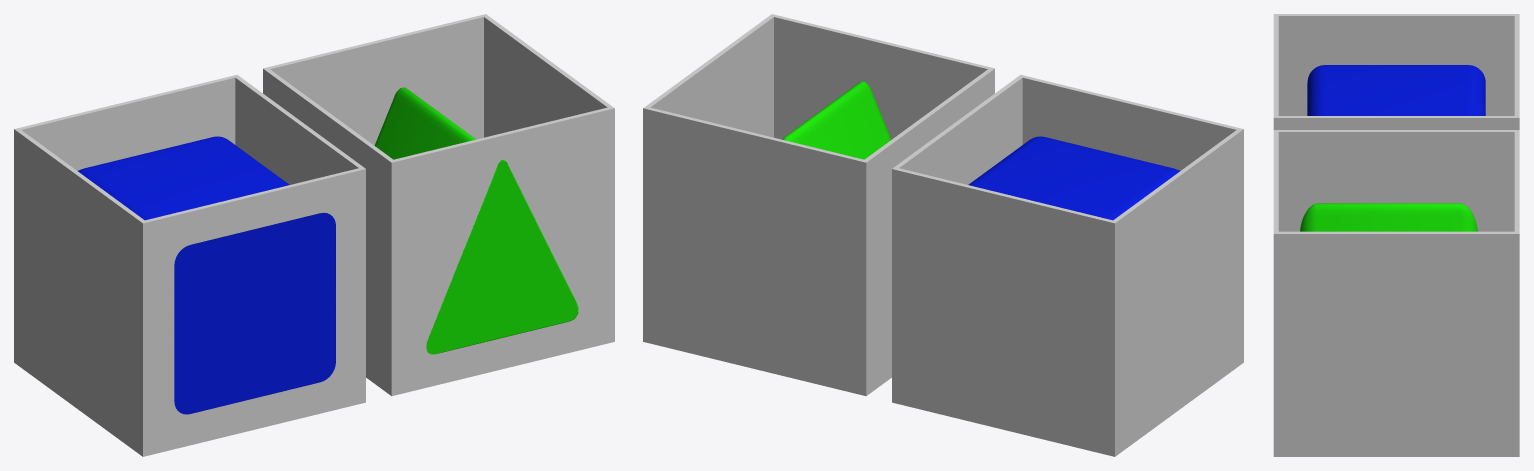
Rendered from Caixas.fbx.
The picture shows the model from 3 angles, left to right: view 1: azimuth 30°, elevation 25°; view 2: azimuth 150°, elevation 25°; view 3: azimuth 270°, elevation 25°; orthographic projection. The views are drawn at different scales.
Parts seen in each view (by area): view 1: Cube.002, Cube.004, Cube.003, Cube.005, Cube, Cube.001; view 2: Cube.002, Cube.004, Cube, Cube.001; view 3: Cube.004, Cube.002, Cube, Cube.001.
Boxes of the visible parts, x1,y1,x2,y2 form: Cube.002: (14, 74, 365, 456); Cube.004: (263, 14, 614, 396); Cube.003: (174, 212, 335, 414); Cube.005: (426, 160, 578, 354); Cube: (78, 136, 289, 220); Cube.001: (374, 87, 475, 159); Cube.002: (892, 74, 1243, 456); Cube.004: (643, 14, 994, 396); Cube: (968, 136, 1179, 220); Cube.001: (782, 81, 891, 159); Cube.004: (1273, 130, 1519, 456); Cube.002: (1273, 14, 1519, 129); Cube: (1307, 65, 1485, 115); Cube.001: (1300, 203, 1477, 231).
Bounding box in the file's own units: 151 × 71.62 × 71.97.
